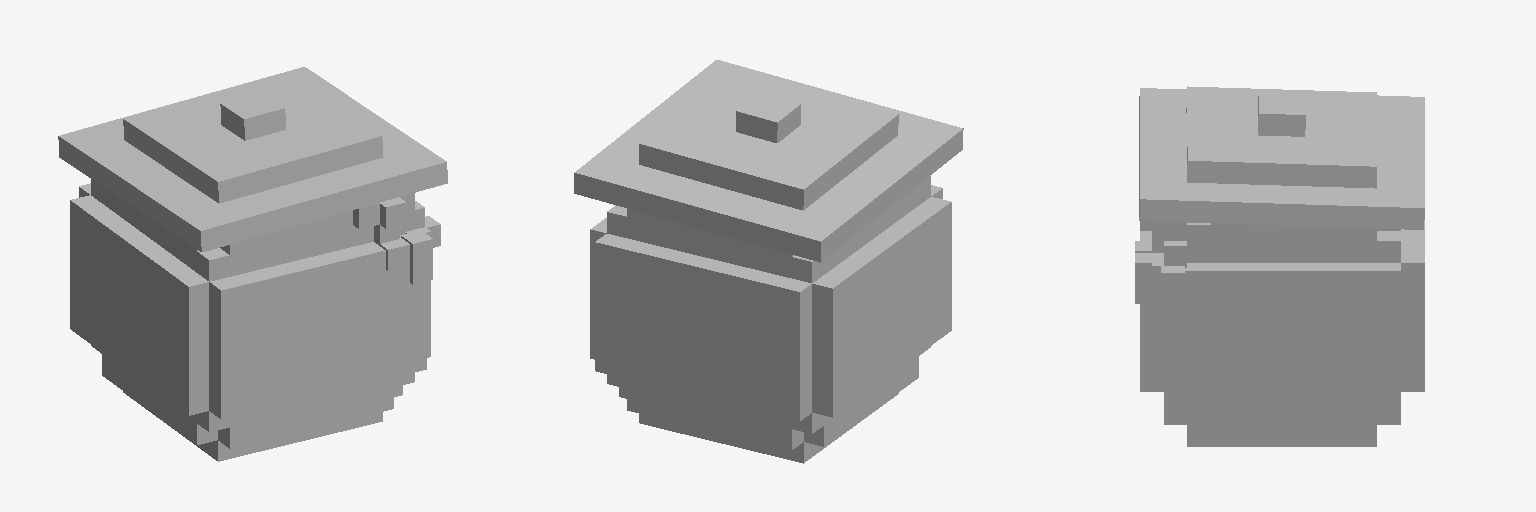
File: 663_honeypot.obj
The picture shows the model from 3 angles: view 1: azimuth 30°, elevation 25°; view 2: azimuth 150°, elevation 25°; view 3: azimuth 270°, elevation 25°; orthographic projection.
Parts seen in each view (by area): view 1: Shape9, Shape22, Shape7, Shape23, Shape2, Shape10, Shape5, Shape24, Shape1, Shape13, Shape16, Shape31 (+3 smaller); view 2: Shape8, Shape22, Shape7, Shape23, Shape3, Shape11, Shape5, Shape24, Shape1, Shape13, Shape6, Shape15 (+1 smaller); view 3: Shape6, Shape22, Shape23, Shape4, Shape12, Shape8, Shape1, Shape9, Shape24, Shape14, Shape33, Shape28 (+2 smaller).
Boxes of the visible parts, x1=… form: Shape9: x1=209, y1=235, x2=426, y2=419; Shape22: x1=58, y1=67, x2=447, y2=251; Shape7: x1=70, y1=195, x2=208, y2=415; Shape23: x1=123, y1=73, x2=382, y2=203; Shape2: x1=218, y1=378, x2=393, y2=448; Shape10: x1=220, y1=210, x2=373, y2=276; Shape5: x1=102, y1=353, x2=217, y2=444; Shape24: x1=220, y1=92, x2=285, y2=140; Shape1: x1=123, y1=391, x2=382, y2=461; Shape13: x1=102, y1=186, x2=198, y2=272; Shape16: x1=197, y1=248, x2=229, y2=281; Shape31: x1=401, y1=232, x2=432, y2=264; Shape8: x1=595, y1=234, x2=811, y2=420; Shape22: x1=574, y1=60, x2=963, y2=262; Shape7: x1=812, y1=197, x2=951, y2=417; Shape23: x1=639, y1=68, x2=898, y2=210; Shape3: x1=627, y1=379, x2=803, y2=450; Shape11: x1=627, y1=209, x2=793, y2=277; Shape5: x1=804, y1=355, x2=918, y2=446; Shape24: x1=736, y1=92, x2=800, y2=142; Shape1: x1=639, y1=393, x2=898, y2=463; Shape13: x1=824, y1=185, x2=918, y2=274; Shape6: x1=590, y1=218, x2=606, y2=359; Shape15: x1=792, y1=255, x2=823, y2=282; Shape6: x1=1164, y1=263, x2=1400, y2=399; Shape22: x1=1139, y1=88, x2=1424, y2=229; Shape23: x1=1186, y1=86, x2=1376, y2=188; Shape4: x1=1187, y1=400, x2=1376, y2=434; Shape12: x1=1187, y1=223, x2=1376, y2=262; Shape8: x1=1401, y1=220, x2=1424, y2=391; Shape1: x1=1187, y1=435, x2=1376, y2=446; Shape9: x1=1140, y1=231, x2=1163, y2=391; Shape24: x1=1258, y1=95, x2=1305, y2=136; Shape14: x1=1377, y1=231, x2=1400, y2=262; Shape33: x1=1161, y1=266, x2=1184, y2=293; Shape28: x1=1164, y1=241, x2=1186, y2=267.
Size of the model in its own units: 0.6481 by 0.7475 by 0.6485.